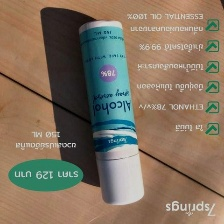aerosol_cans: (73, 16, 151, 211)
